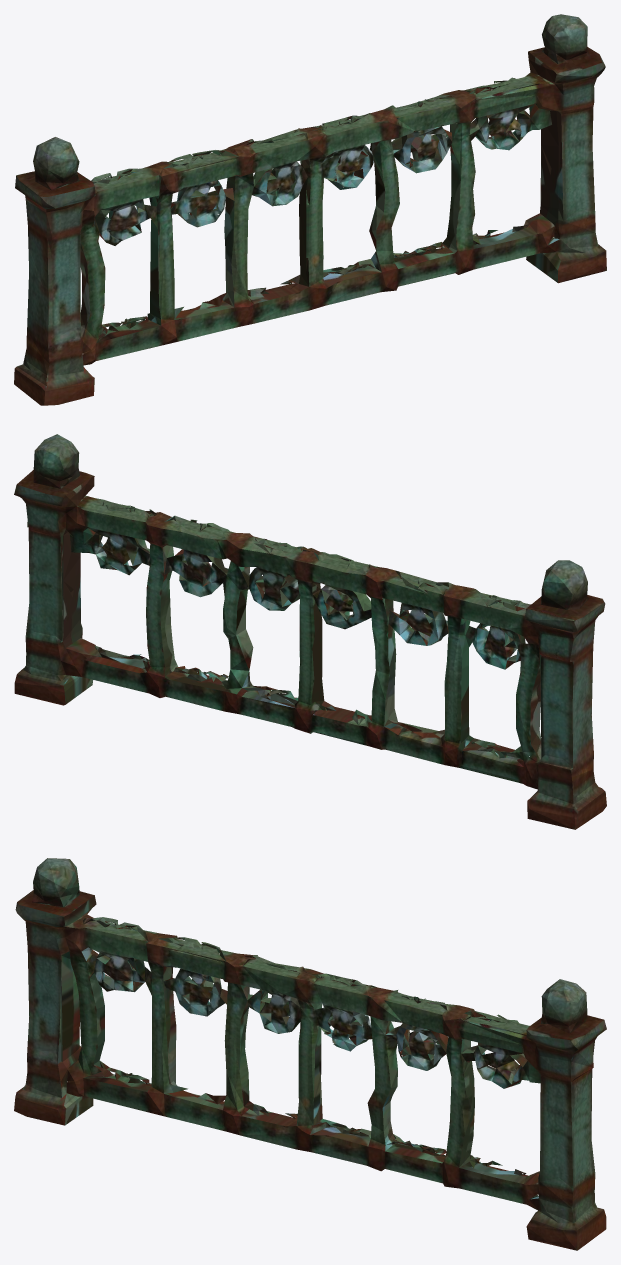
The model's file is park_ironfence_1117.glb.
The picture shows the model from 3 angles, top to bottom: view 1: azimuth 30°, elevation 25°; view 2: azimuth 150°, elevation 25°; view 3: azimuth 330°, elevation 25°; orthographic projection.
Parts seen in each view (by area): view 1: world; view 2: world; view 3: world.
Boxes of the visible parts, x1,y1,x2,y2 form: world: (14,14,606,405); world: (14,434,606,829); world: (14,858,606,1250).
Size of the model in its own units: 2.35 by 1 by 0.2285.
Materials: 1 (1 with a texture image).
